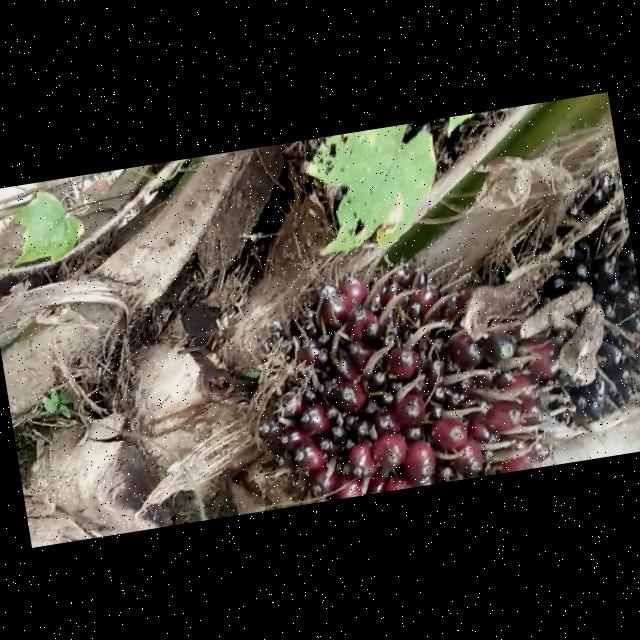Ripe: (258, 261, 562, 498)
